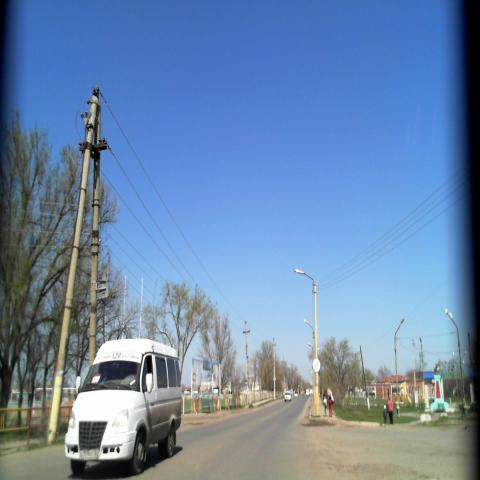3_31: (313, 357, 322, 375)
